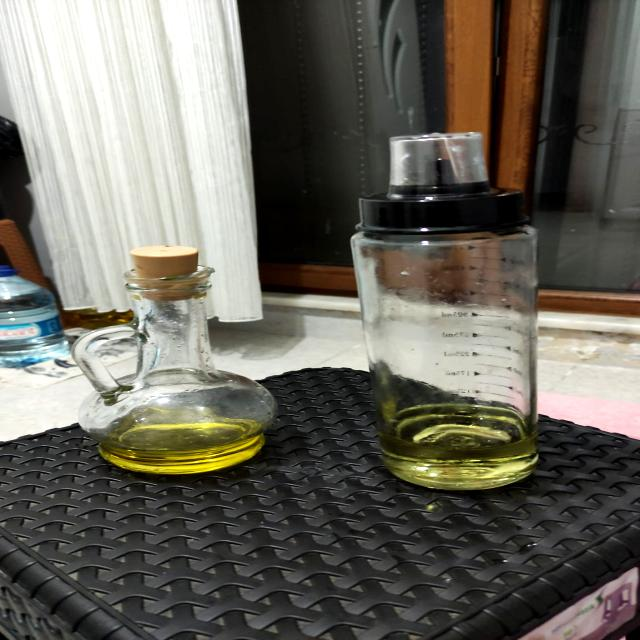olive oil: (344, 127, 598, 496), (59, 240, 291, 482)
